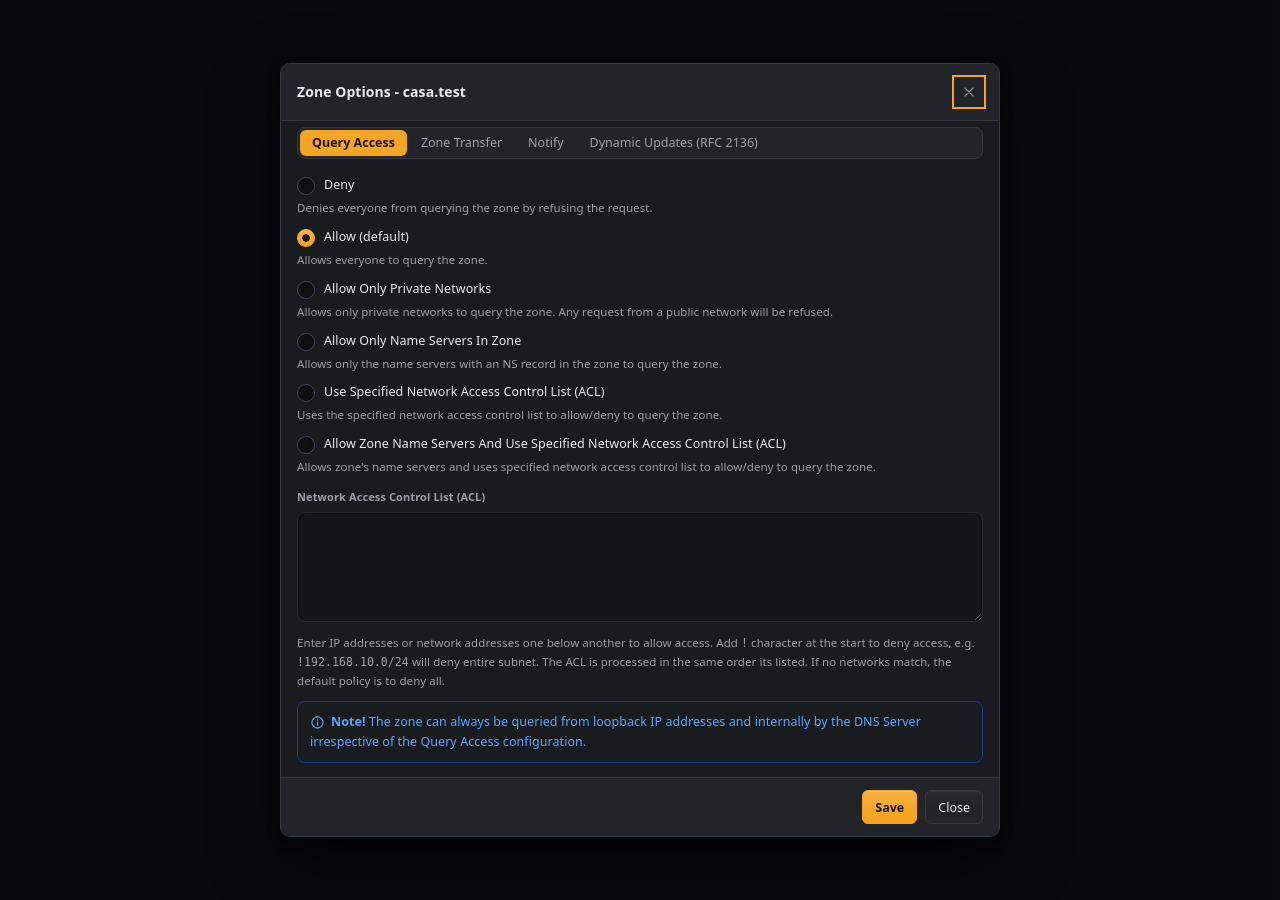
Scenario: Zone Options: the explanation under each radio › Notify on a Primary: four texts, the list help and the Note
The width and height of the screenshot is (1280, 900).
Click the tab "Notify" at [546, 143], box x1=516 y1=130 x2=576 y2=156
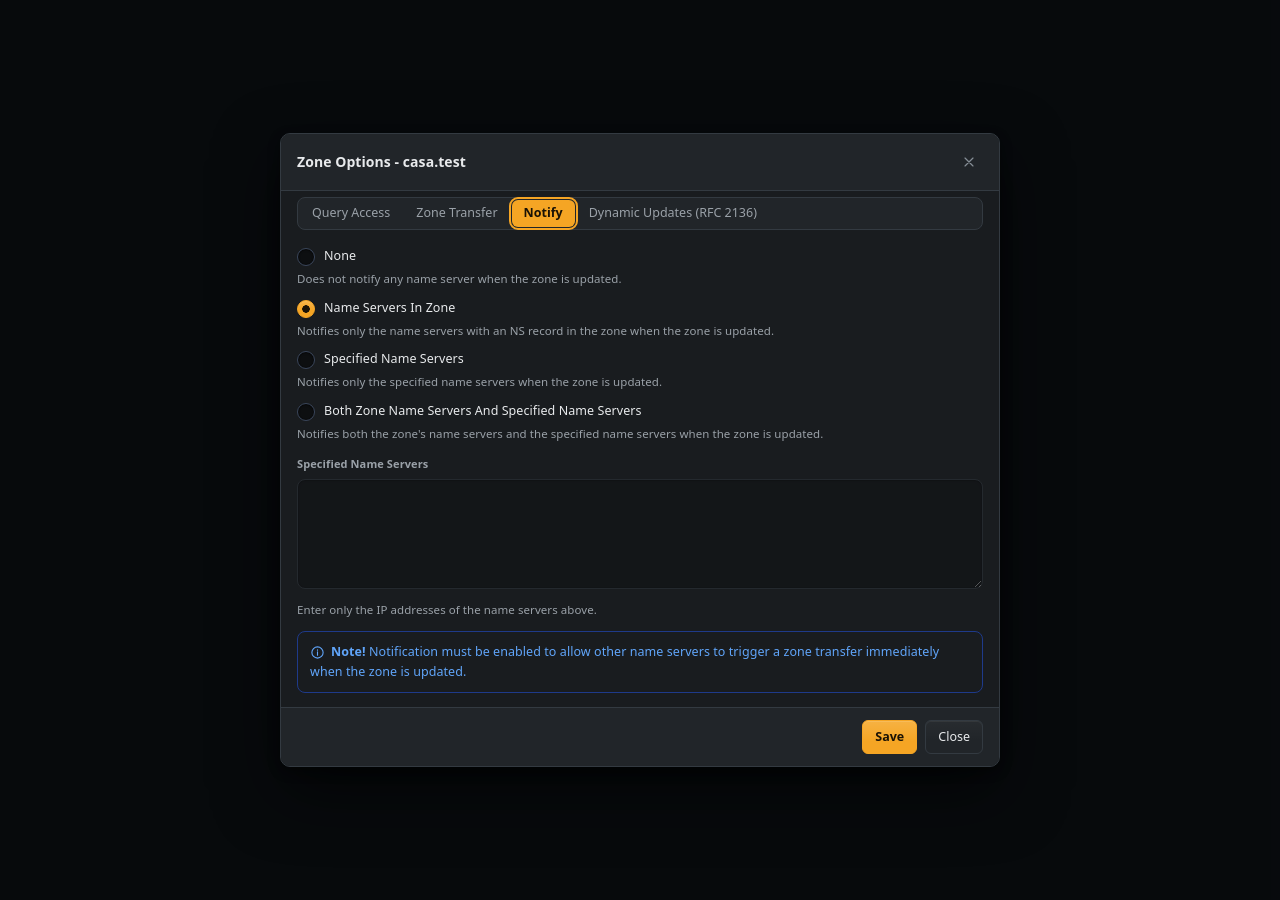
Now the text "Does not notify any name server when the zone is updated." is shown, box x1=297 y1=271 x2=622 y2=286
Now the text "Notifies only the name servers with an NS record in the zone when the zone is updated." is shown, box x1=297 y1=322 x2=774 y2=338
Now the text "Notifies only the specified name servers when the zone is updated." is shown, box x1=297 y1=374 x2=662 y2=389
